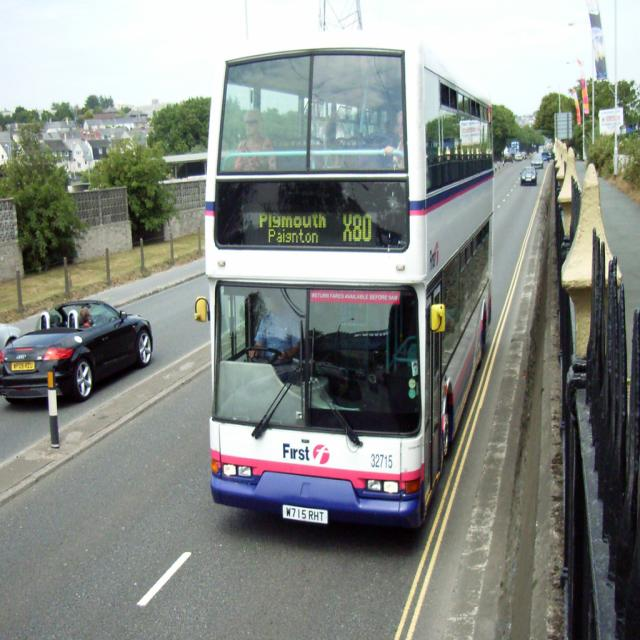car: (522, 168, 538, 185)
